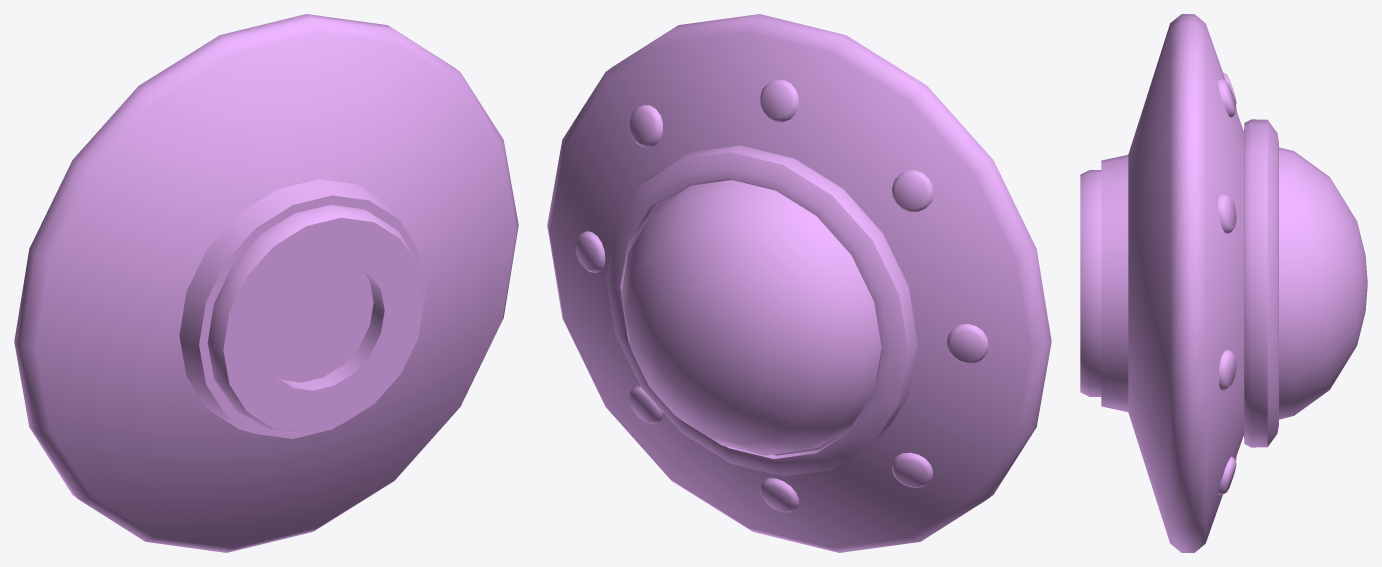
Rendered from UFO2.fbx.
The picture shows the model from 3 angles, left to right: view 1: azimuth 30°, elevation 25°; view 2: azimuth 150°, elevation 25°; view 3: azimuth 270°, elevation 25°; orthographic projection. The views are drawn at different scales.
Visible parts, largest first — view 1: UFO; view 2: UFO; view 3: UFO.
Part boxes in pixels (x1,y1,x2,y2): UFO: (14,14,518,552); UFO: (547,14,1051,552); UFO: (1080,14,1367,552).
Size of the model in its own units: 115 by 113 by 61.09.
